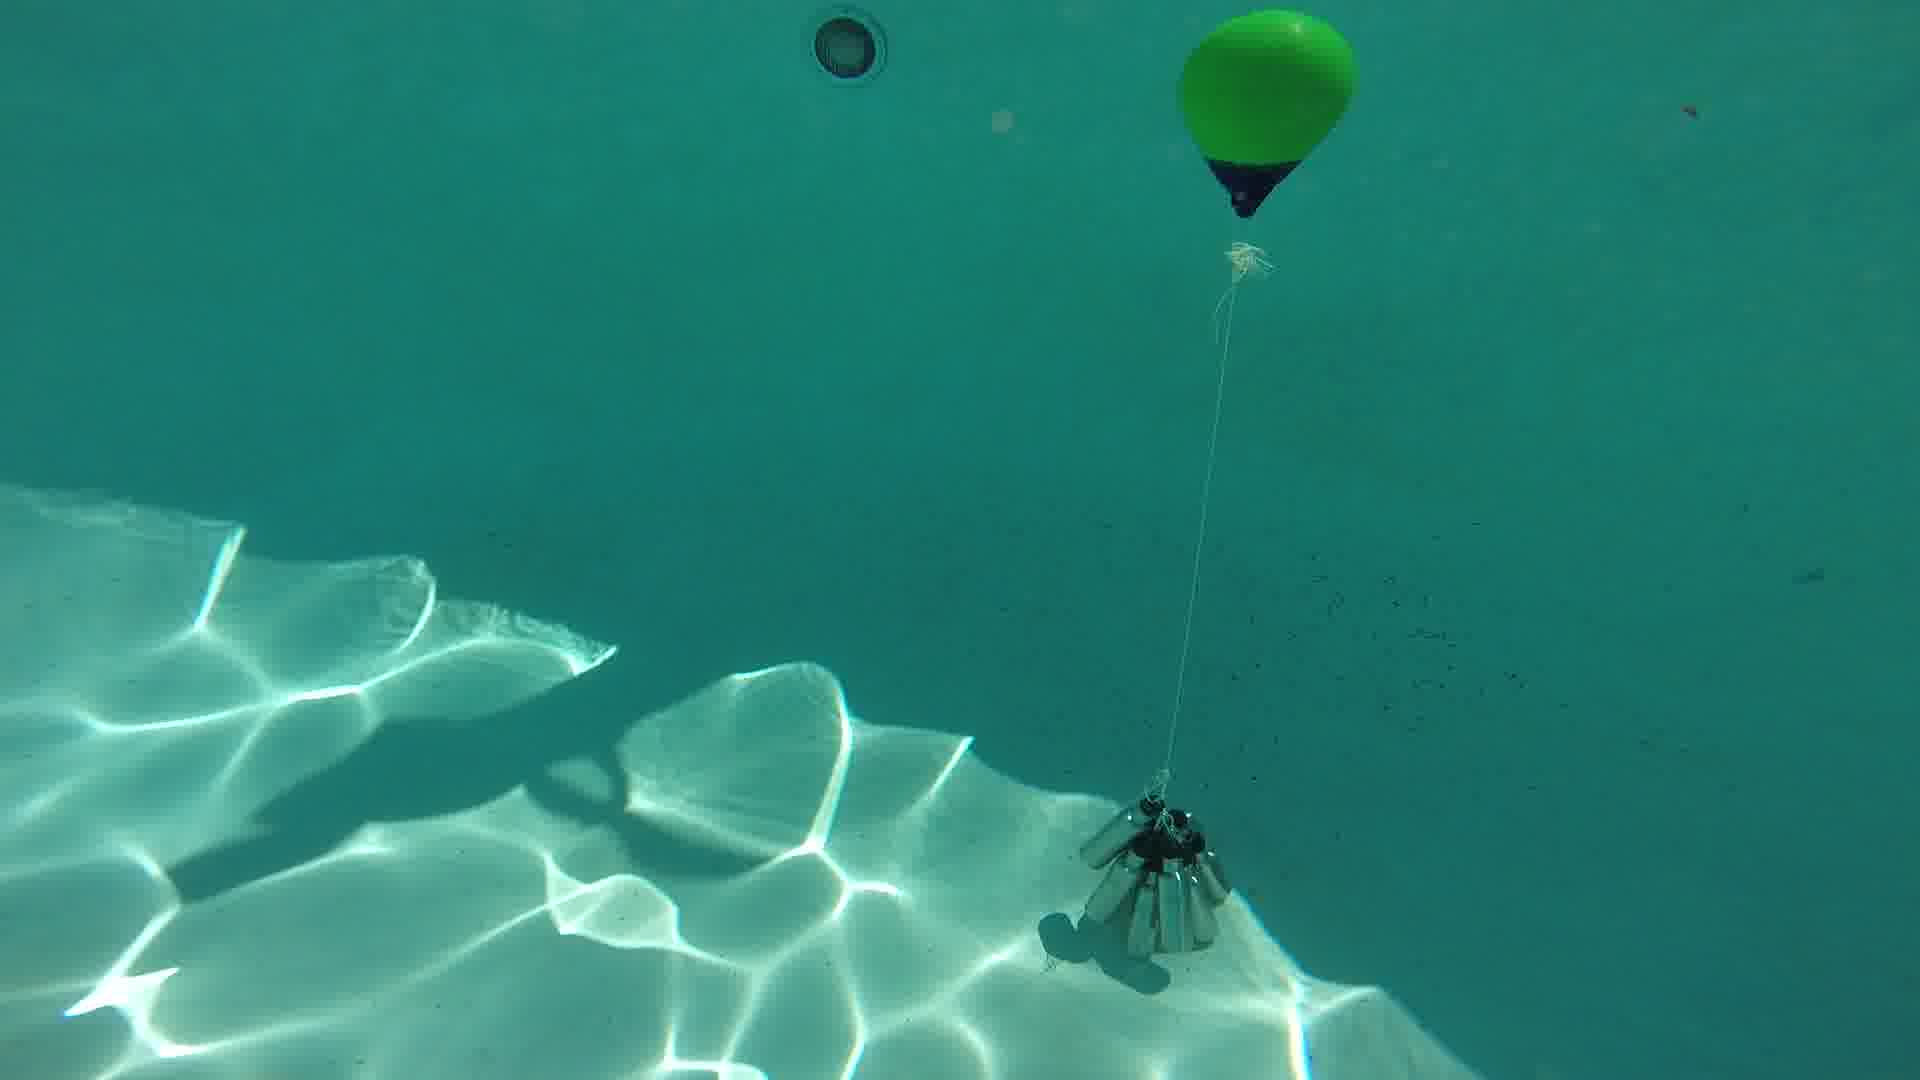yellow_buoy: (1175, 11, 1360, 224)
